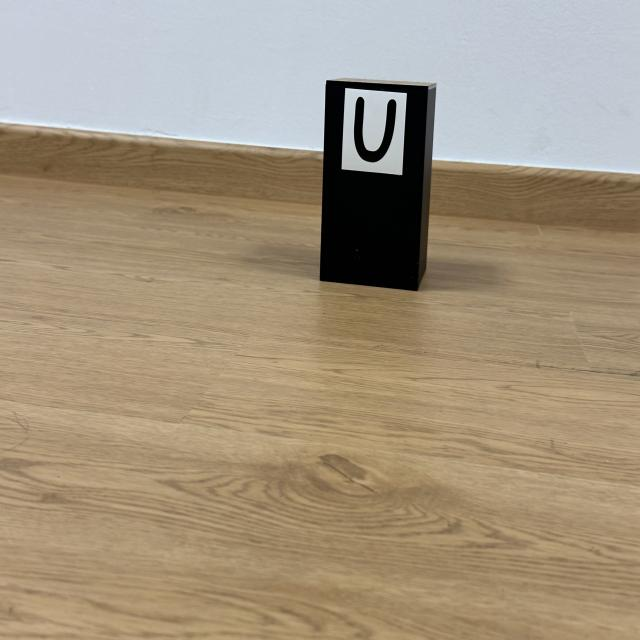U: (354, 97, 396, 163)
